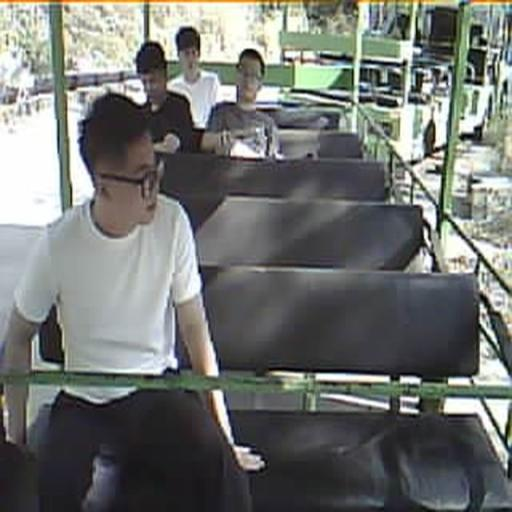persona: (2, 90, 252, 508), (200, 48, 282, 160), (133, 40, 195, 154), (166, 25, 221, 132)
